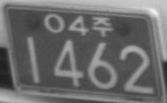0: (43, 13, 65, 33)
1: (18, 36, 44, 83)
2: (119, 44, 153, 94)
4: (53, 39, 83, 86), (68, 15, 90, 36)
6: (87, 41, 118, 90)
주: (92, 16, 112, 36)
